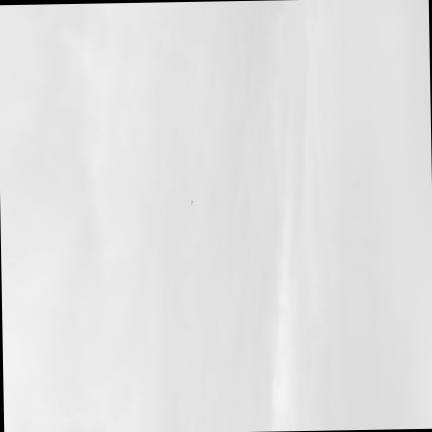Shahed: (190, 199, 192, 204)
